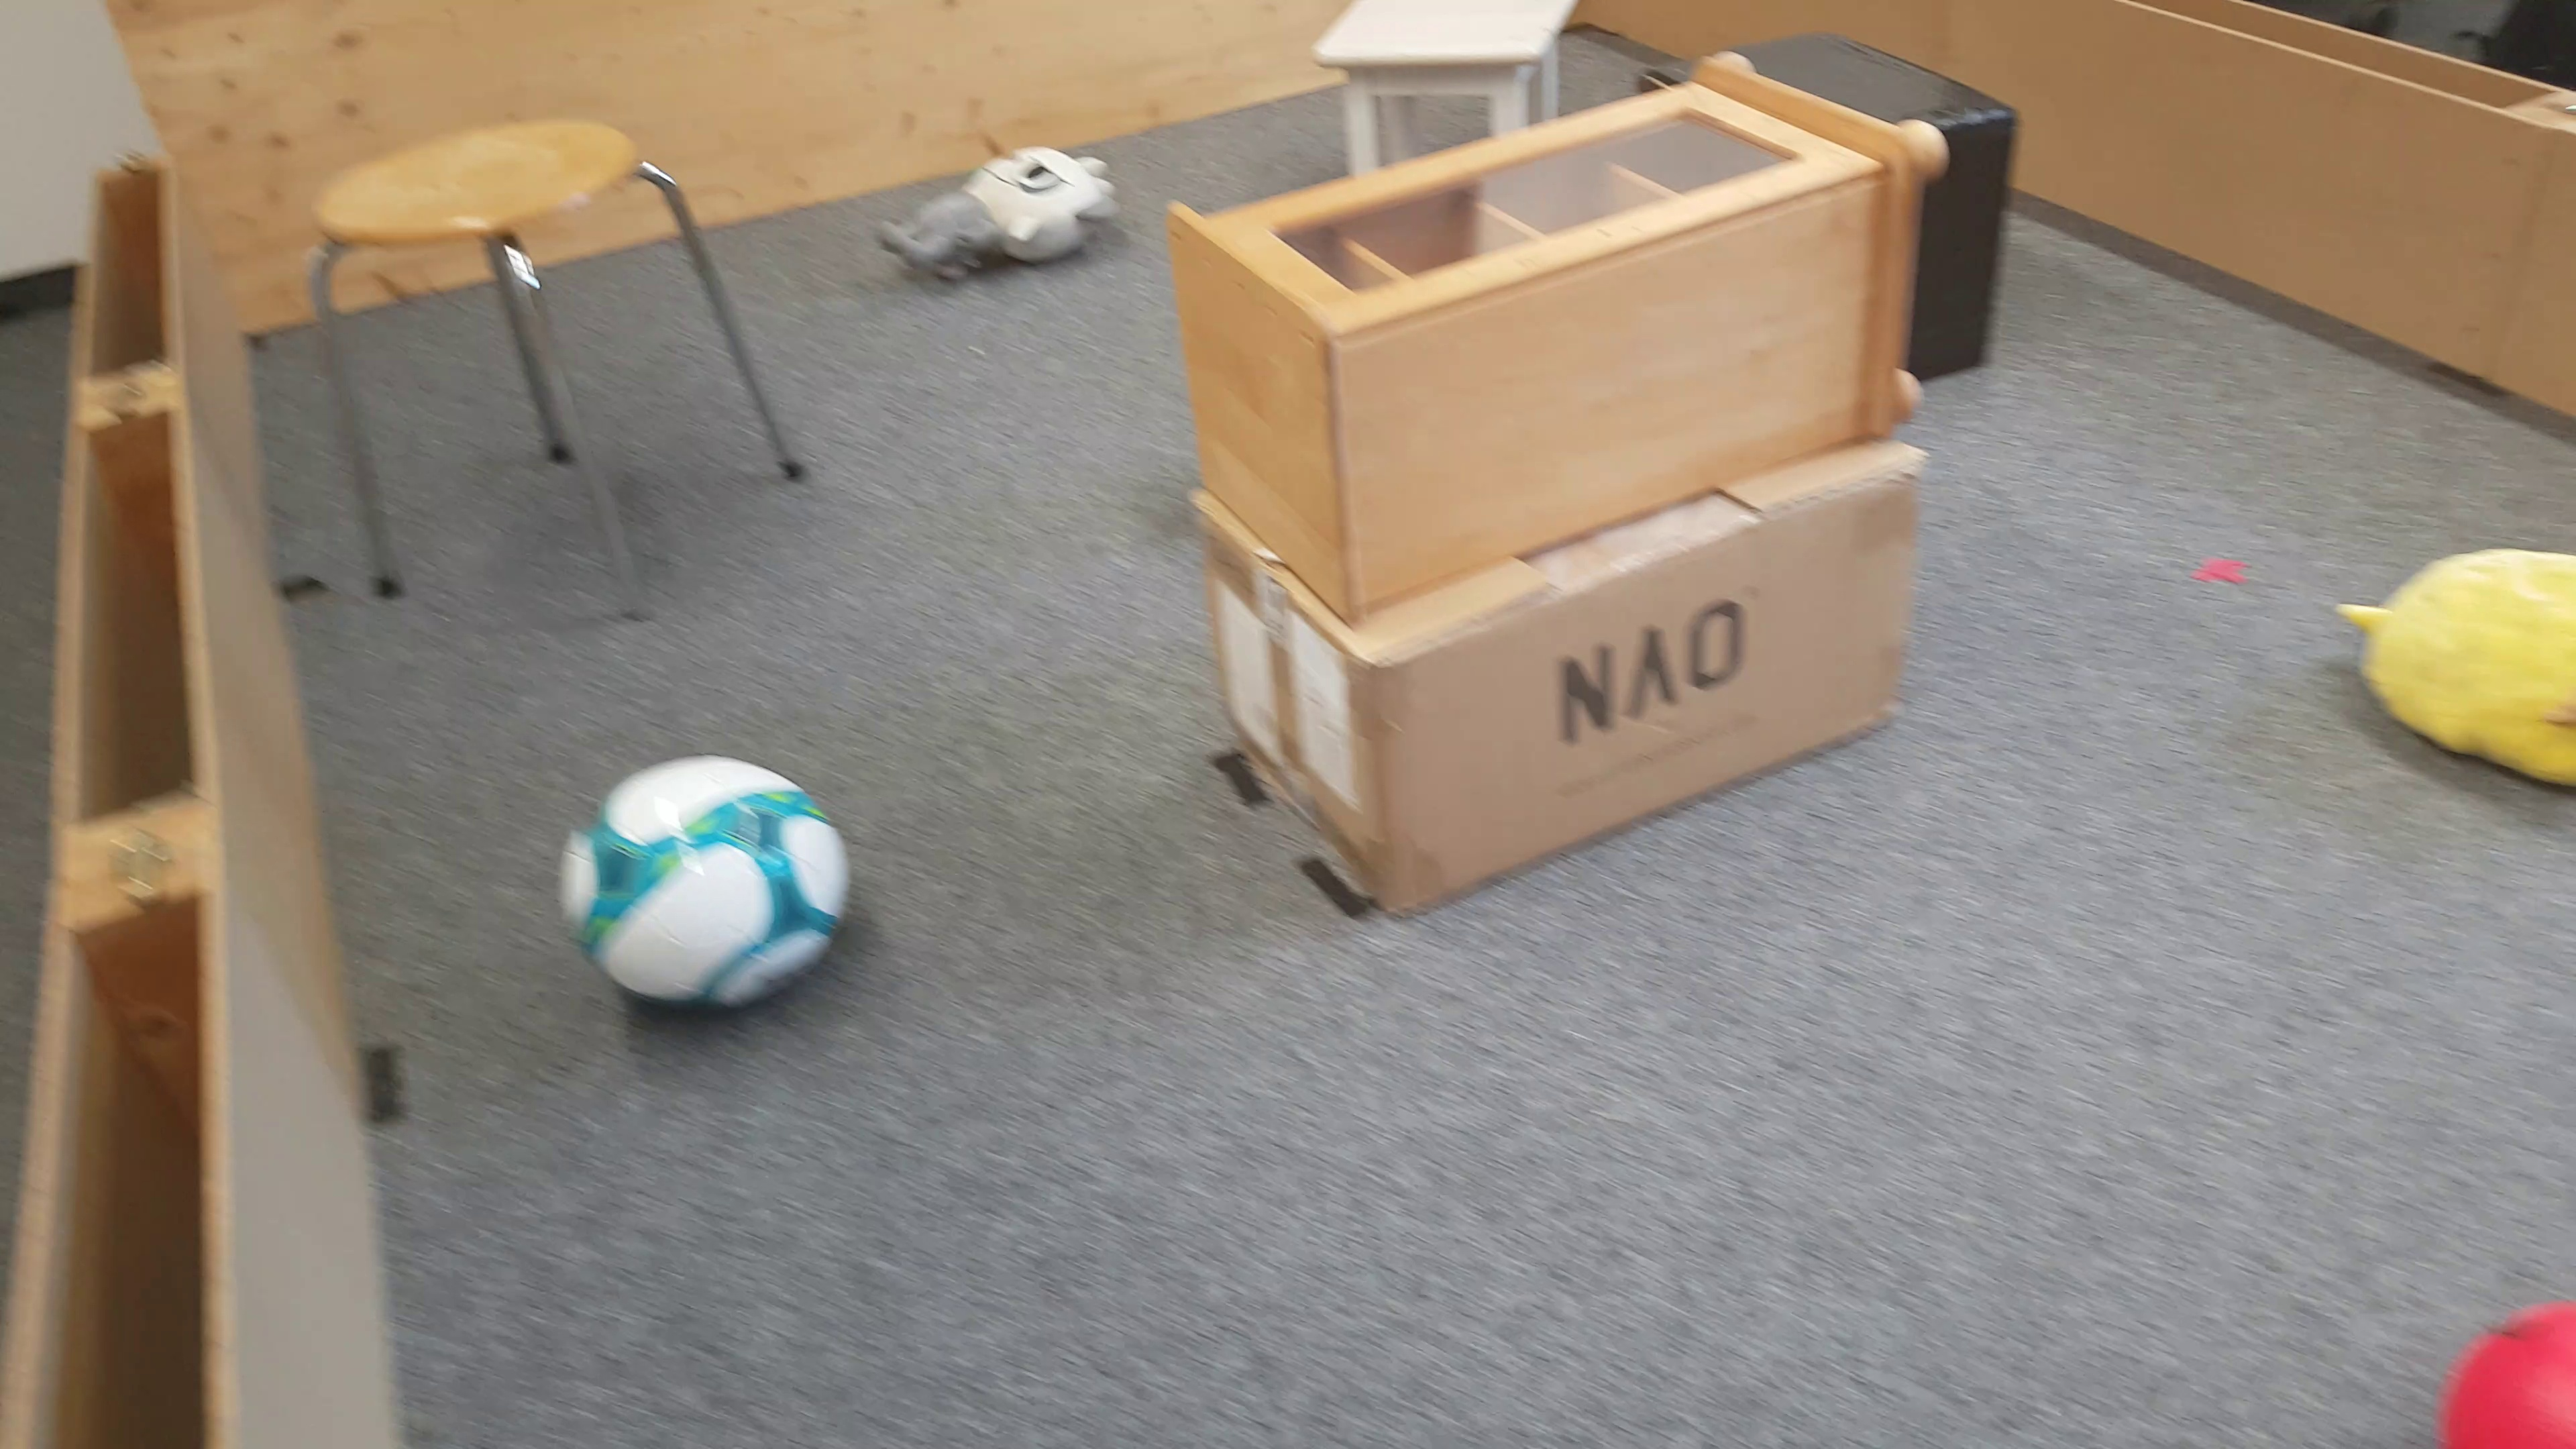grasp: (2332, 547, 2576, 793), (874, 145, 1116, 294)
kick: (557, 752, 847, 1016), (2436, 1300, 2576, 1440)
push: (1953, 87, 2020, 384)
